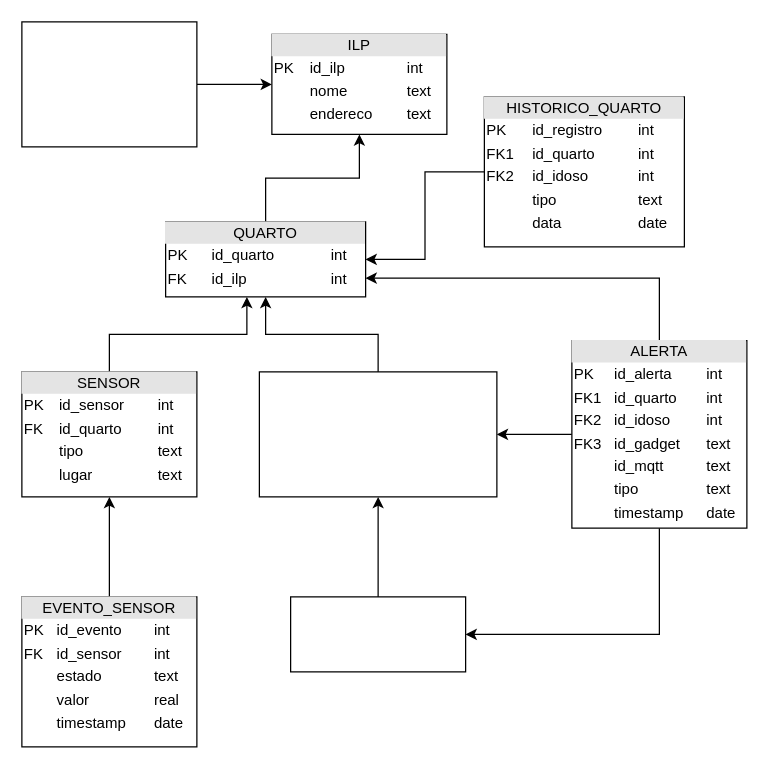
The diagram is 769 pixels wide and 769 high, and some of its shapes have lost their labels. Each missing label, with the centre of its shape:
"CUIDADOR PK id_cuidador int FK id_ilp int nome text telegram_id text" belongs at pixel 109 84.
"GADGET PK id_gadget text FK id_idoso int" belongs at pixel 377 634.
"IDOSO PK id_idoso int FK id_quarto int nome text data_nascimento date" belongs at pixel 377 434.
